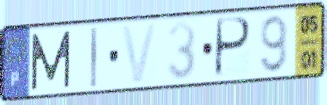3: (165, 17, 198, 84)
9: (258, 13, 290, 75)
I: (89, 26, 100, 90)
M: (30, 29, 73, 93)
P: (212, 15, 254, 80)
V: (119, 21, 160, 86)
